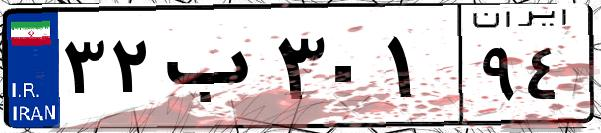0: (330, 28, 385, 110)
1: (385, 28, 445, 110)
2: (110, 28, 158, 98)
3: (270, 28, 330, 110), (57, 26, 110, 100)
4: (525, 38, 570, 115)
9: (475, 38, 525, 113)
ب: (158, 20, 270, 120)
